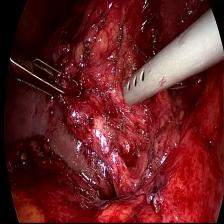Grasper: (18, 52, 86, 104)
Irrigator: (122, 54, 162, 108)
